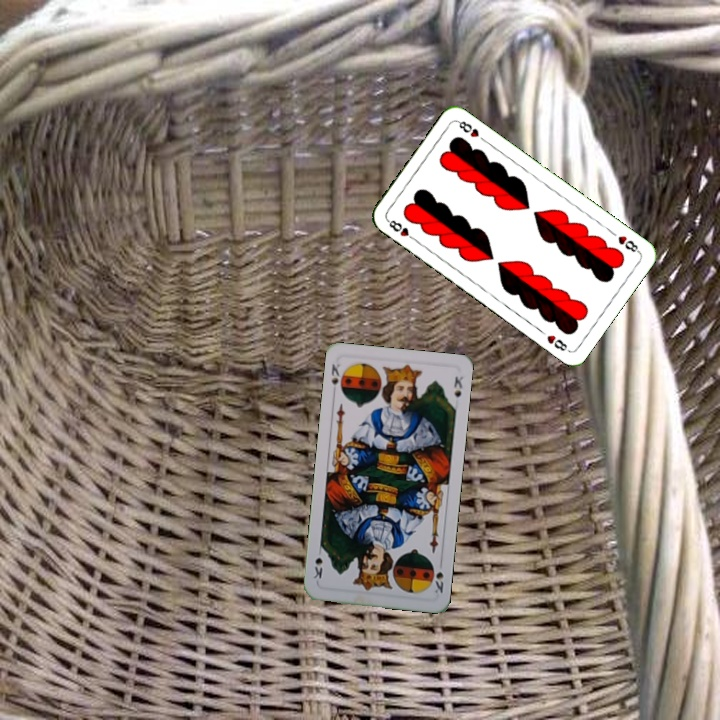H8: (383, 215, 419, 243), (614, 232, 642, 255)
SK: (430, 557, 446, 596), (327, 360, 343, 397)
